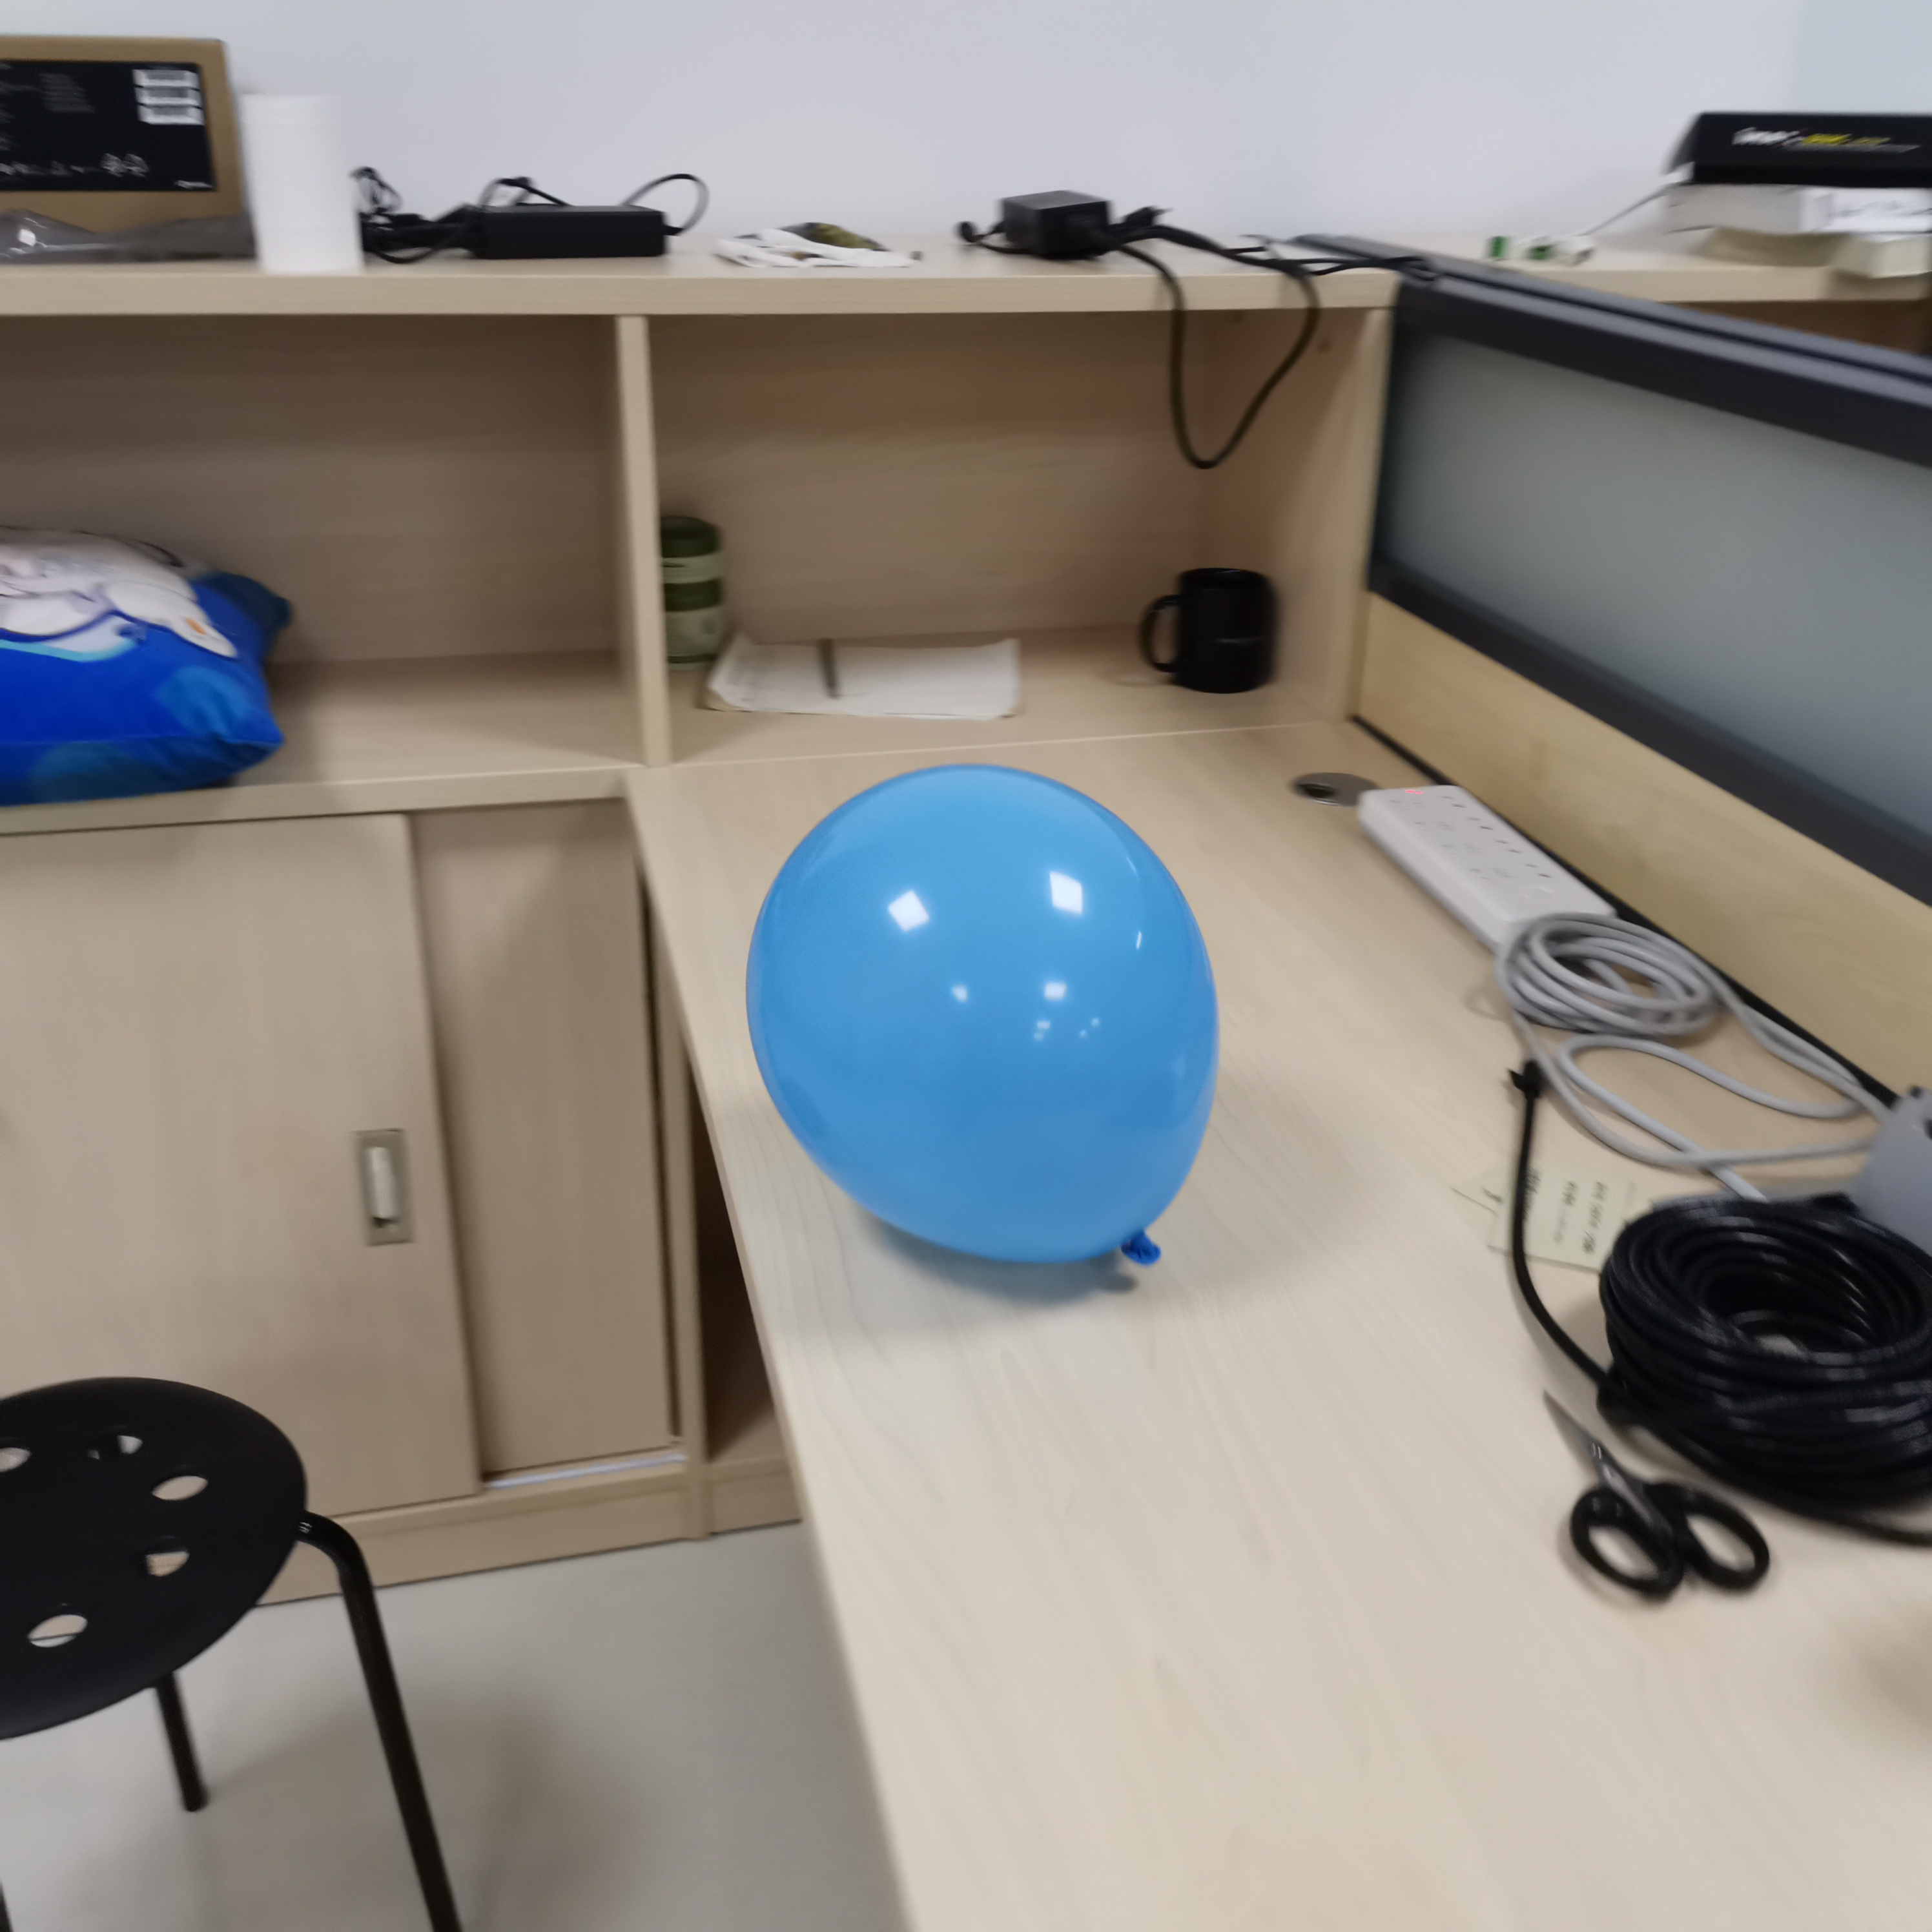balloon: (741, 757, 1219, 1277)
